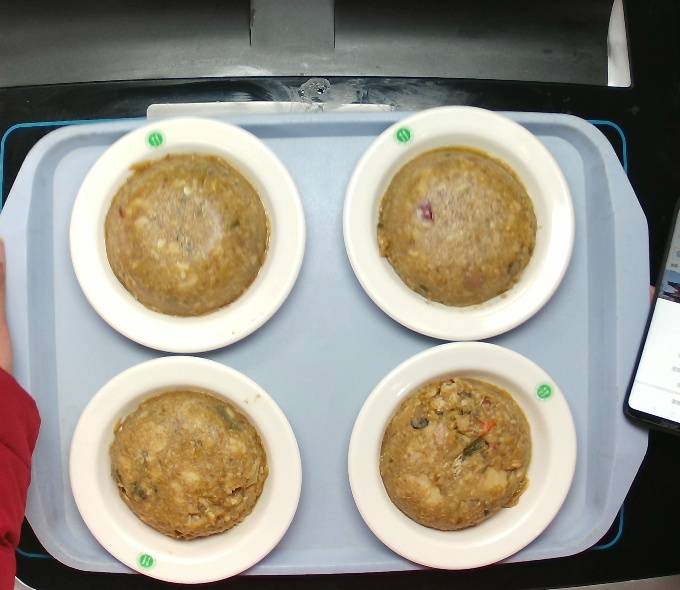wcq-YuDong: (89, 145, 278, 317), (106, 379, 267, 546), (376, 143, 536, 305), (387, 372, 529, 530)
